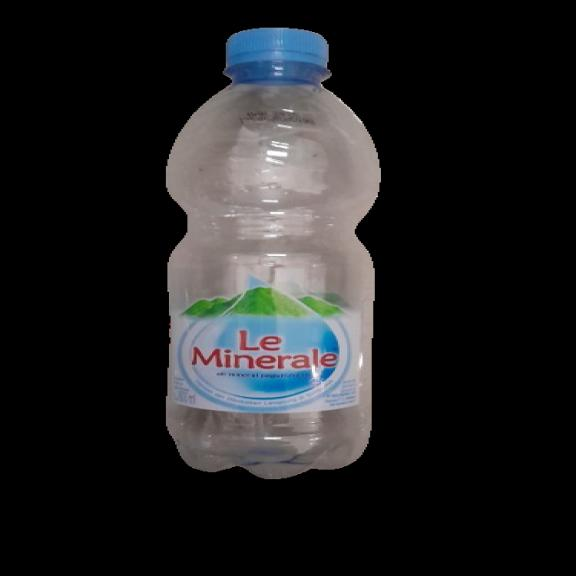Plastik: (146, 22, 390, 483)
